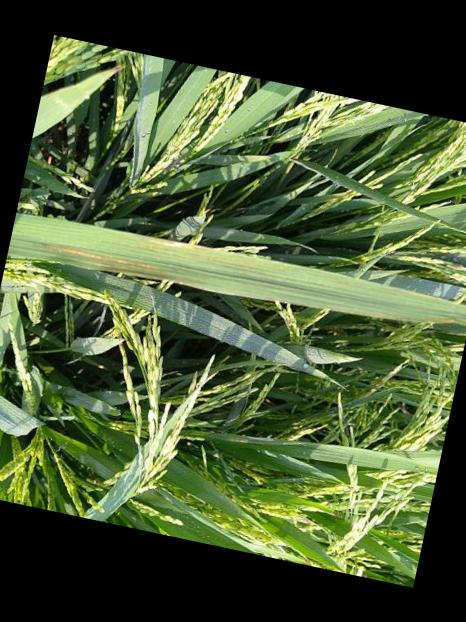Leaf Streak: (43, 243, 163, 282), (135, 238, 191, 252)
